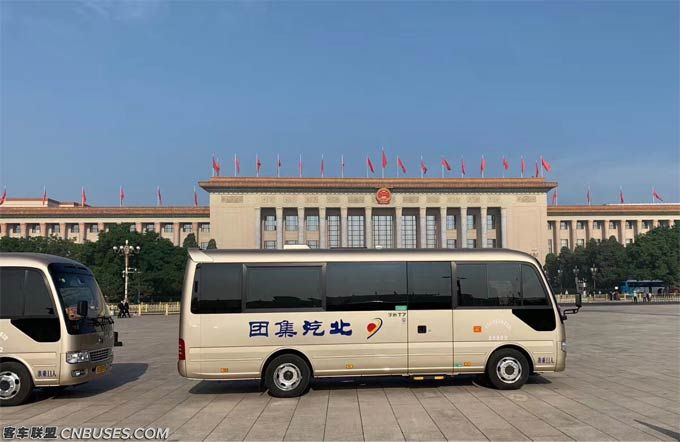midcar: (166, 239, 570, 399)
